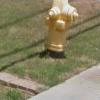Hydrant: (36, 2, 81, 60)
